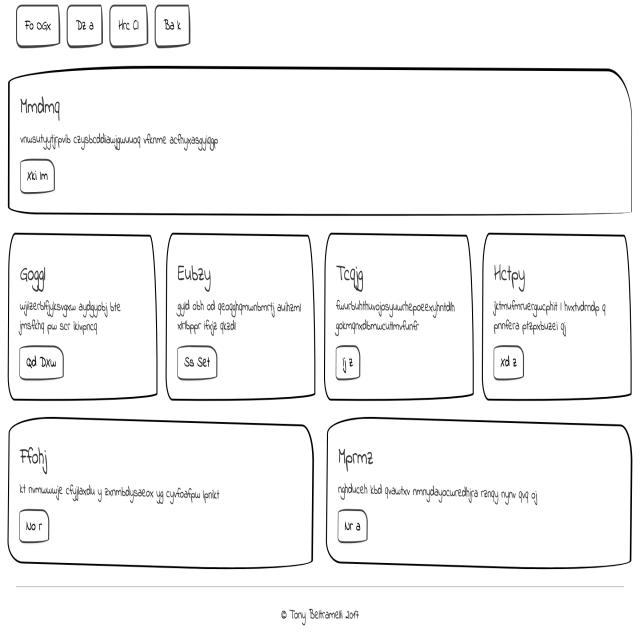Button: (16, 335, 66, 386), (176, 343, 228, 384), (16, 158, 57, 199), (15, 508, 52, 544), (335, 510, 372, 545), (334, 344, 365, 384), (491, 347, 526, 380)
Card: (2, 66, 637, 220), (5, 412, 317, 572), (326, 412, 636, 572), (7, 233, 162, 409), (321, 231, 476, 407), (481, 231, 634, 409), (166, 232, 317, 407)
Footer: (2, 579, 640, 640)
Heading 6: (337, 437, 382, 477), (329, 255, 377, 292), (174, 256, 217, 294), (492, 258, 531, 294), (18, 90, 64, 120), (17, 439, 52, 478), (16, 258, 49, 292)
Navigation Bar: (12, 0, 195, 58)
Paragraph: (16, 476, 226, 508), (173, 293, 304, 340), (333, 294, 463, 340), (334, 478, 547, 506), (488, 295, 610, 342), (18, 130, 225, 155), (16, 297, 123, 334)
